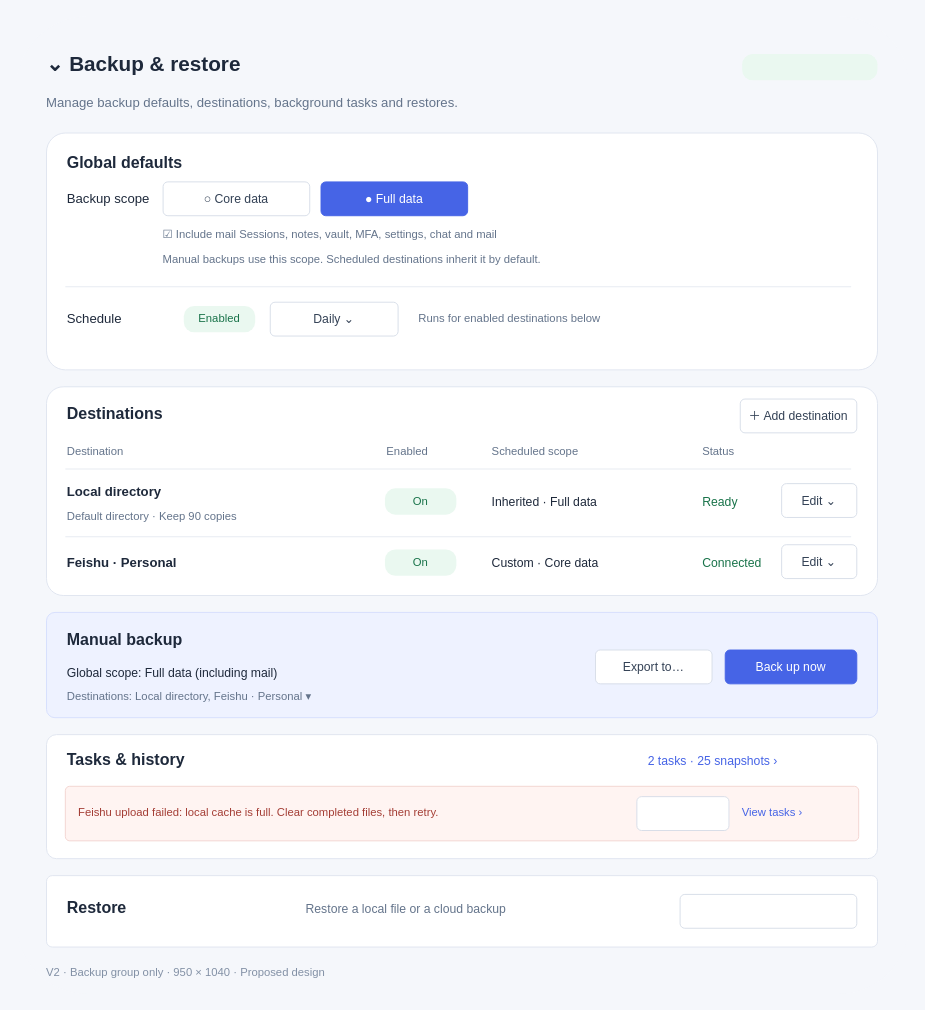
The diagram is 925 pixels wide and 1010 high, and some of its shapes have lost their labels. Here are the shapes that lost their labels. From the top down, the centre of each, then its label:
At pixel 809 67: "✓ Changes saved".
At pixel 682 813: "Retry".
At pixel 768 910: "Choose backup…".
